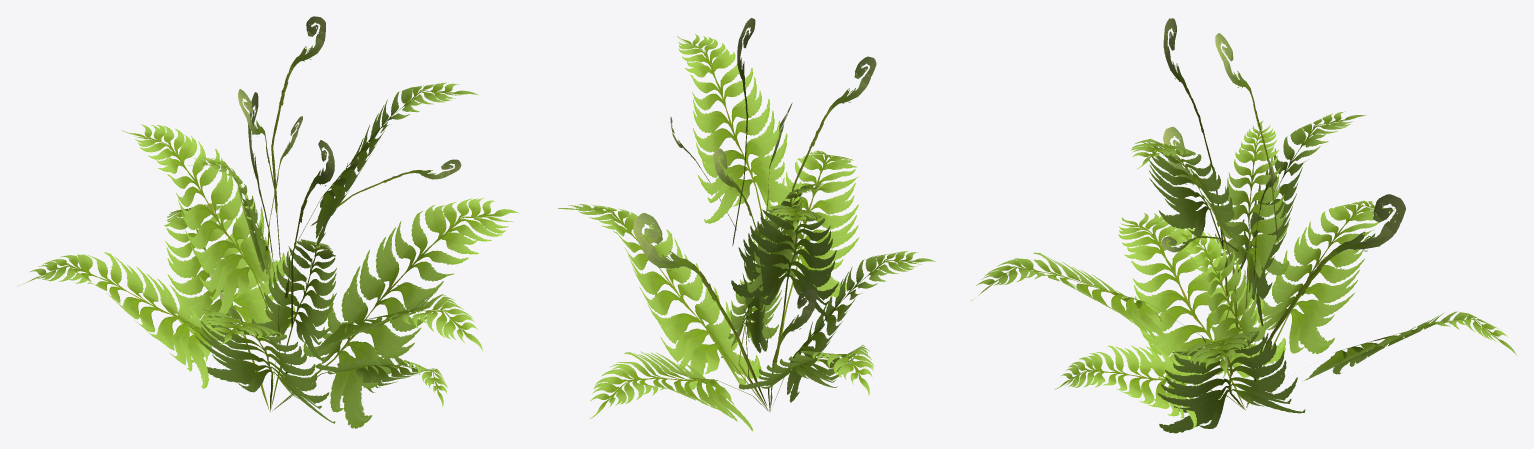
Rendered from Mod_Fern03.fbx.
The picture shows the model from 3 angles, left to right: view 1: azimuth 30°, elevation 25°; view 2: azimuth 150°, elevation 25°; view 3: azimuth 270°, elevation 25°; orthographic projection. The views are drawn at different scales.
Parts seen in each view (by area): view 1: Fern3; view 2: Fern3; view 3: Fern3.
Boxes of the visible parts, left/top/right/bottom form: Fern3: left=17, top=16, right=519, bottom=428; Fern3: left=558, top=18, right=935, bottom=431; Fern3: left=970, top=18, right=1516, bottom=433.
Size of the model in its own units: 132 by 121 by 152.
